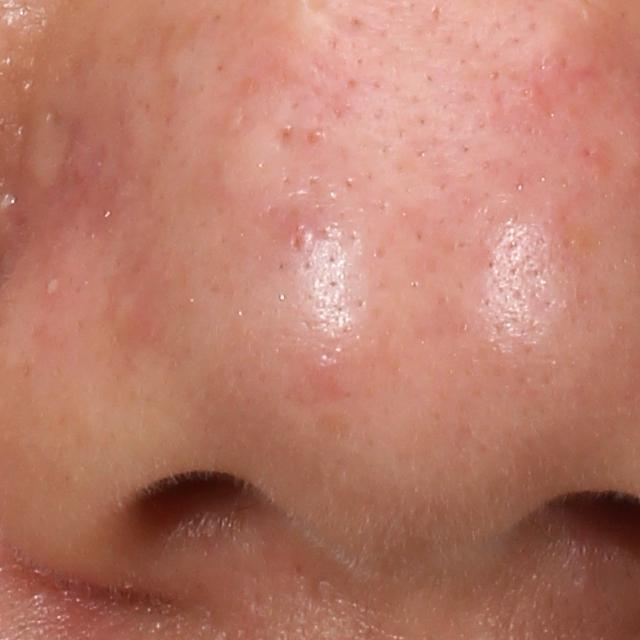hypertrophic_scar: (221, 83, 298, 204), (18, 94, 70, 188)
